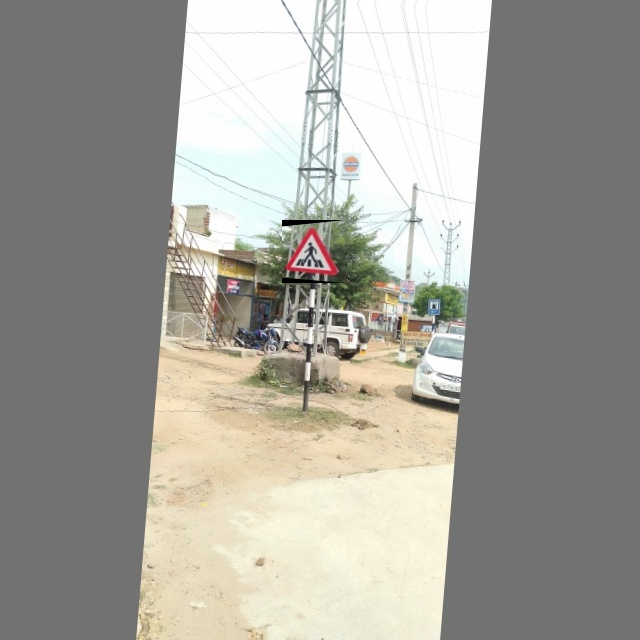Pedestrian_Crossing: (282, 220, 346, 283)
